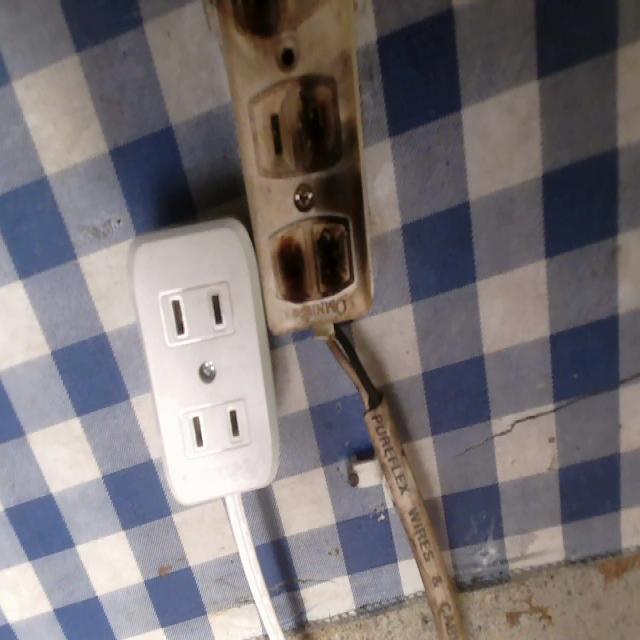-: (266, 216, 362, 307), (296, 83, 347, 164), (223, 5, 285, 52)
